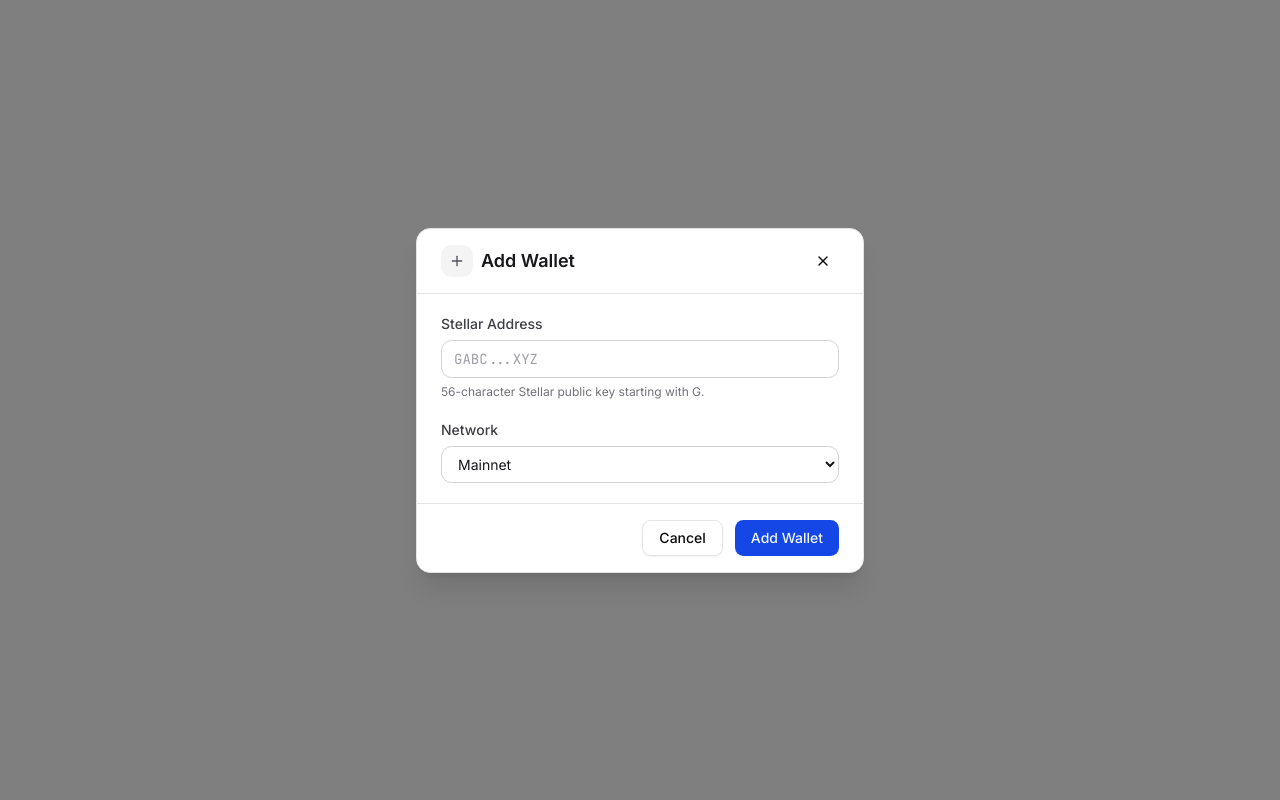
Test: AddWalletModal validation › shows an error for an address that is too short
Type "GABC" into the field labelled "Stellar Address" at (640, 358), box [441,340,839,378]
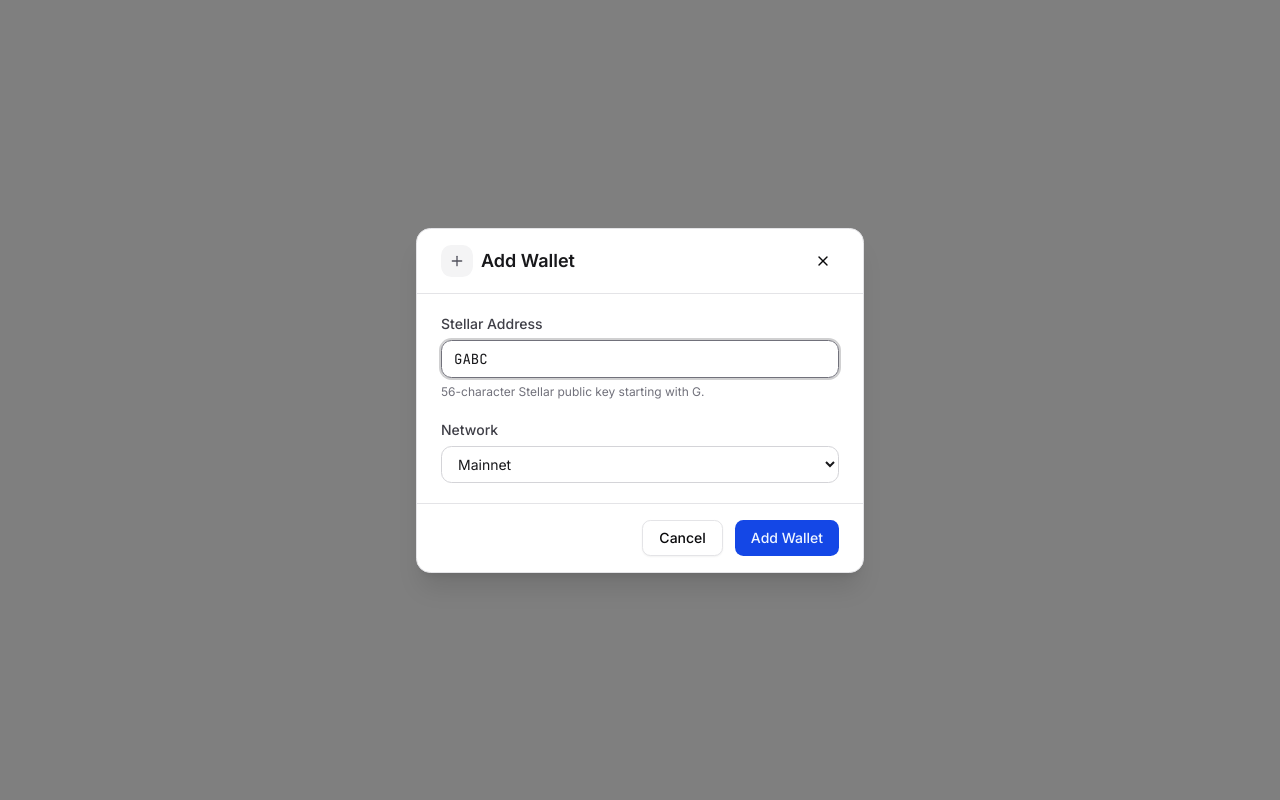
Click the button "Add Wallet" at (787, 538), box [735,520,839,556]
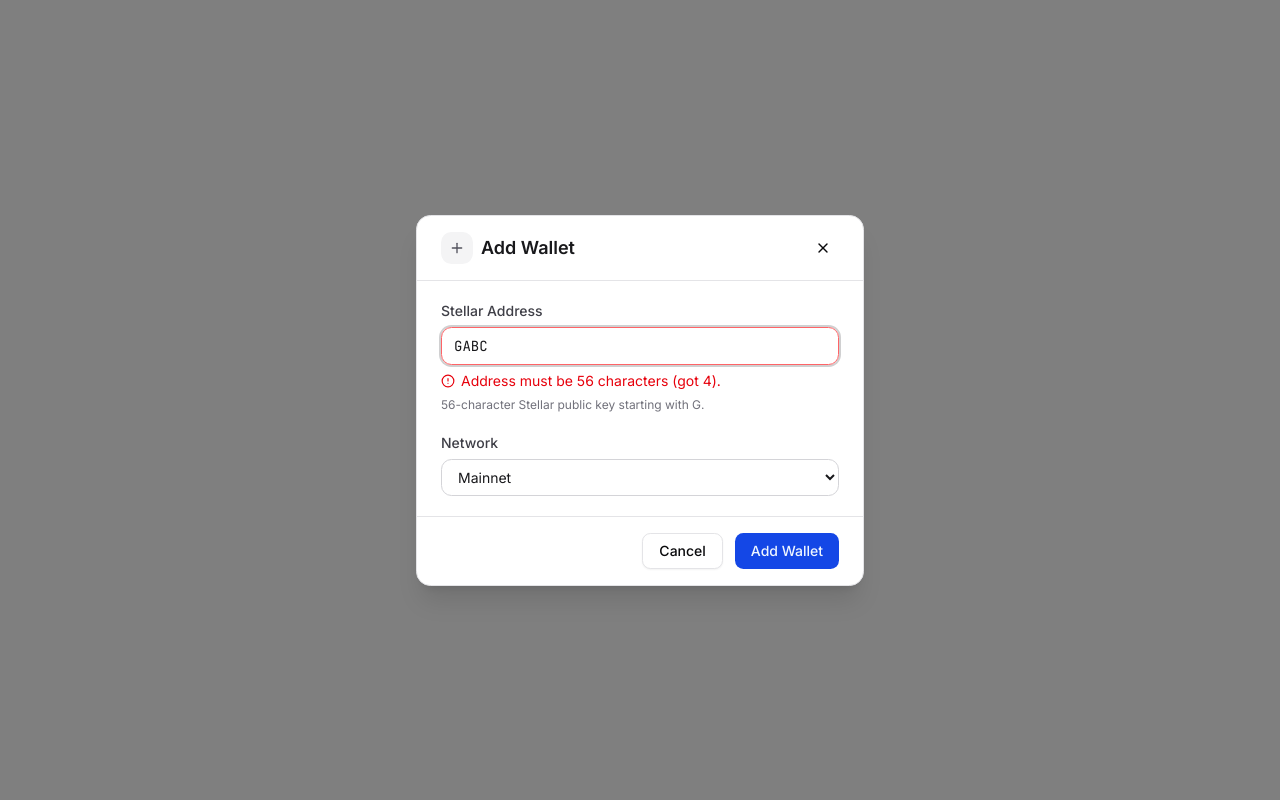
expect the message shows "56 characters": met, box [461,372,721,388]
